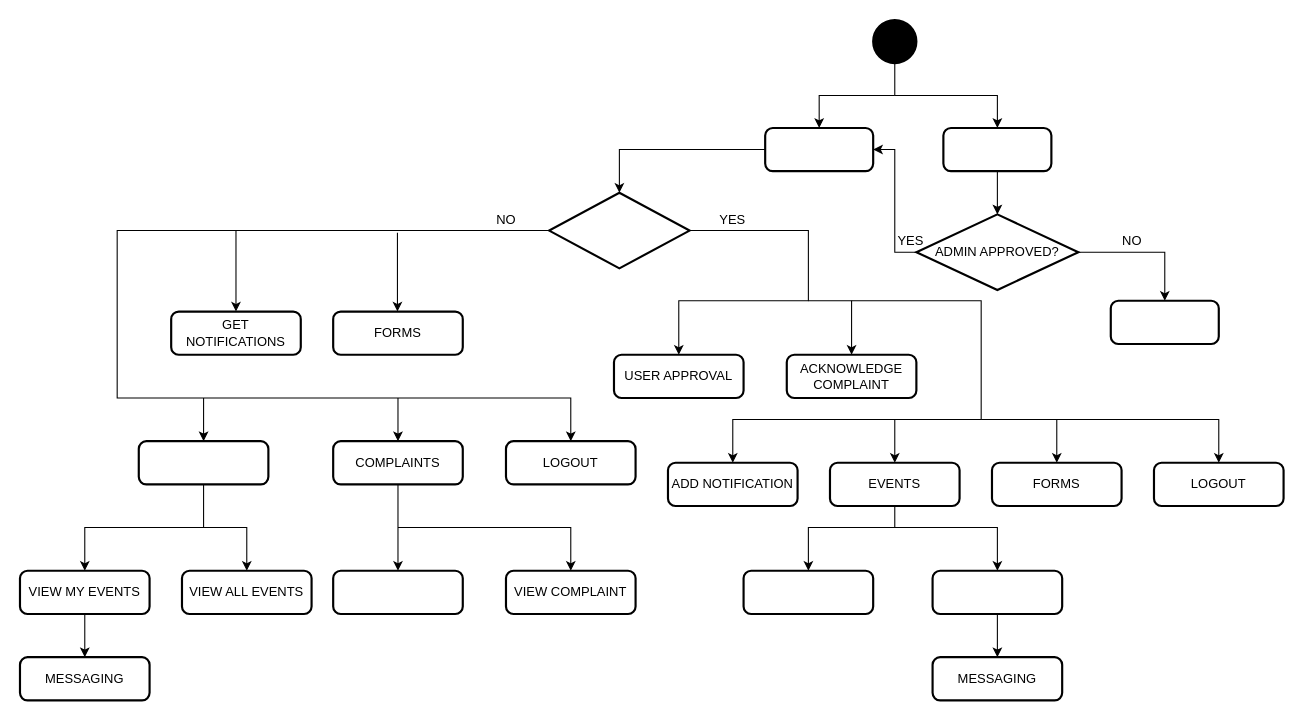
This 1302x719 diagram has some shape labels left out. The centre of each missing label's shape, as x and y in pixels:
"ADD EVENTS" belongs at point (808, 592).
"GET EVENT DETAILS" belongs at point (203, 462).
"IS ADMIN?" belongs at point (619, 230).
"LOGIN" belongs at point (819, 149).
"REGISTER" belongs at point (997, 149).
"REGISTER COMPLAINT" belongs at point (397, 592).
"VIEW EVENTS" belongs at point (997, 592).
"WAIT" belongs at point (1164, 322).
